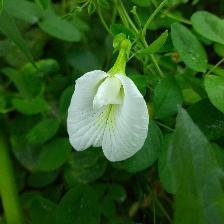shankupushpam: (67, 70, 152, 164)
